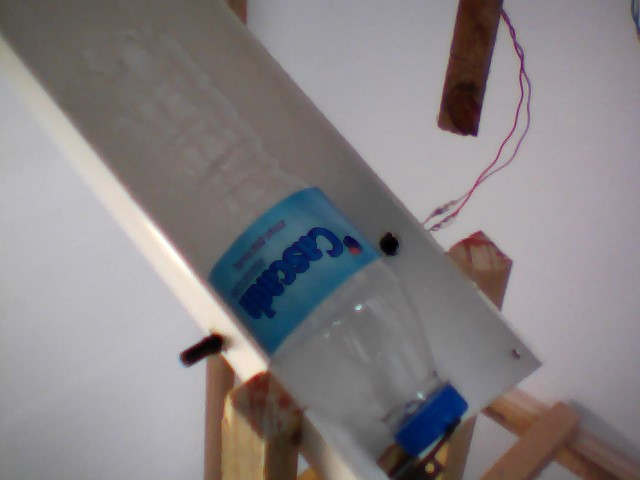plastico: (47, 24, 474, 464)
